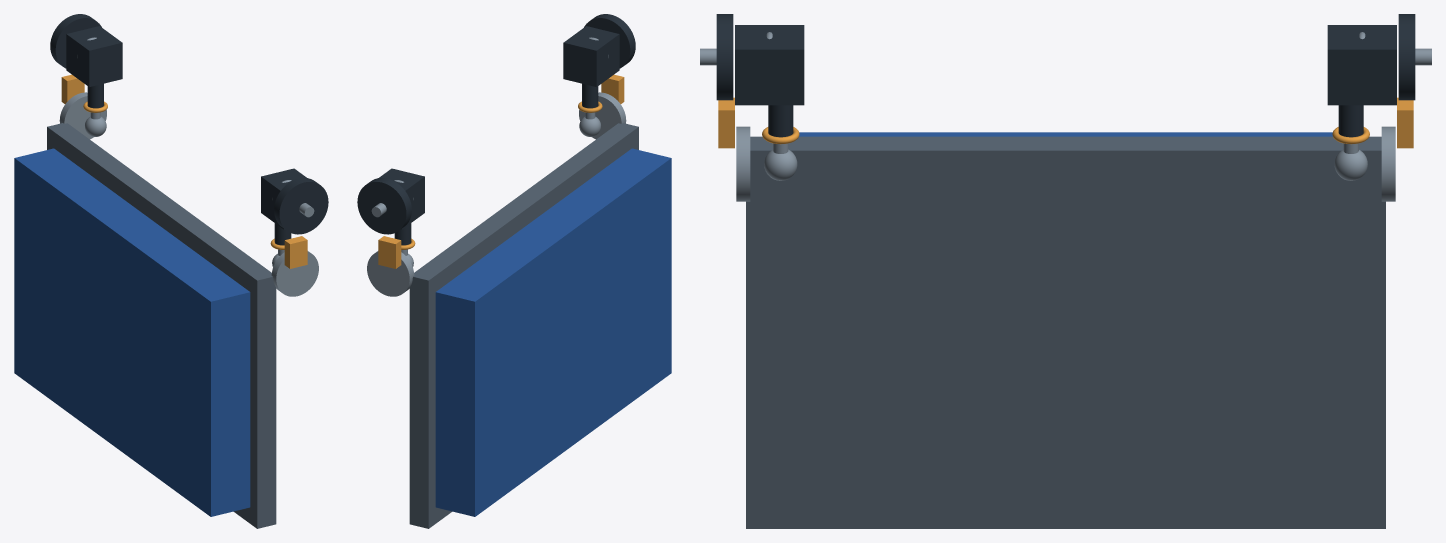
The model's file is hcd_stackable_lean_rest.glb.
3 renders of one model, left to right at view 1: azimuth 30°, elevation 25°; view 2: azimuth 150°, elevation 25°; view 3: azimuth 270°, elevation 25°, orthographic. The views are drawn at different scales.
Visible parts, largest first — view 1: HCD_Stackable_Cushion, HCD_Stackable_Panel_Shell, HCD_Stackable_Clamp_Saddle_Right, HCD_Stackable_Handle_Pivot_Left, HCD_Stackable_Panel_Ear_Left, HCD_Stackable_Handle_Pivot_Right, HCD_Stackable_Clamp_Saddle_Left, HCD_Stackable_Panel_Ear_Right, HCD_Stackable_Lock_Tab_Left, HCD_Stackable_Lock_Tab_Right, HCD_Stackable_Carrier_Sleeve_Right; view 2: HCD_Stackable_Cushion, HCD_Stackable_Panel_Shell, HCD_Stackable_Clamp_Saddle_Left, HCD_Stackable_Handle_Pivot_Right, HCD_Stackable_Panel_Ear_Right, HCD_Stackable_Handle_Pivot_Left, HCD_Stackable_Clamp_Saddle_Right, HCD_Stackable_Panel_Ear_Left, HCD_Stackable_Lock_Tab_Right, HCD_Stackable_Lock_Tab_Left, HCD_Stackable_Carrier_Sleeve_Left; view 3: HCD_Stackable_Panel_Shell, HCD_Stackable_Clamp_Saddle_Left, HCD_Stackable_Clamp_Saddle_Right, HCD_Stackable_Cushion, HCD_Stackable_Handle_Pivot_Left, HCD_Stackable_Handle_Pivot_Right, HCD_Stackable_Panel_Ear_Left, HCD_Stackable_Panel_Ear_Right, HCD_Stackable_Lock_Tab_Left, HCD_Stackable_Lock_Tab_Right.
Part boxes in pixels (x1,y1,x2,y2): HCD_Stackable_Cushion: [14, 148, 250, 516]; HCD_Stackable_Panel_Shell: [47, 123, 276, 528]; HCD_Stackable_Clamp_Saddle_Right: [66, 26, 122, 86]; HCD_Stackable_Handle_Pivot_Left: [274, 178, 328, 234]; HCD_Stackable_Panel_Ear_Left: [271, 251, 318, 296]; HCD_Stackable_Handle_Pivot_Right: [50, 14, 101, 68]; HCD_Stackable_Clamp_Saddle_Left: [261, 168, 306, 229]; HCD_Stackable_Panel_Ear_Right: [59, 92, 106, 139]; HCD_Stackable_Lock_Tab_Left: [284, 236, 307, 268]; HCD_Stackable_Lock_Tab_Right: [61, 74, 84, 103]; HCD_Stackable_Carrier_Sleeve_Right: [87, 83, 103, 108]; HCD_Stackable_Cushion: [435, 148, 671, 516]; HCD_Stackable_Panel_Shell: [409, 123, 638, 528]; HCD_Stackable_Clamp_Saddle_Left: [563, 26, 619, 86]; HCD_Stackable_Handle_Pivot_Right: [357, 178, 411, 234]; HCD_Stackable_Panel_Ear_Right: [367, 251, 414, 296]; HCD_Stackable_Handle_Pivot_Left: [584, 14, 635, 68]; HCD_Stackable_Clamp_Saddle_Right: [379, 168, 424, 229]; HCD_Stackable_Panel_Ear_Left: [579, 92, 626, 139]; HCD_Stackable_Lock_Tab_Right: [378, 236, 401, 268]; HCD_Stackable_Lock_Tab_Left: [601, 74, 624, 103]; HCD_Stackable_Carrier_Sleeve_Left: [582, 83, 598, 108]; HCD_Stackable_Panel_Shell: [746, 136, 1385, 528]; HCD_Stackable_Clamp_Saddle_Left: [735, 25, 804, 105]; HCD_Stackable_Clamp_Saddle_Right: [1327, 25, 1396, 105]; HCD_Stackable_Cushion: [799, 132, 1332, 136]; HCD_Stackable_Handle_Pivot_Left: [716, 14, 733, 100]; HCD_Stackable_Handle_Pivot_Right: [1398, 14, 1415, 100]; HCD_Stackable_Panel_Ear_Left: [736, 126, 750, 201]; HCD_Stackable_Panel_Ear_Right: [1381, 126, 1395, 201]; HCD_Stackable_Lock_Tab_Left: [718, 97, 734, 148]; HCD_Stackable_Lock_Tab_Right: [1397, 97, 1413, 148].
Size of the model in its own units: 0.128 by 0.416 by 0.526.
